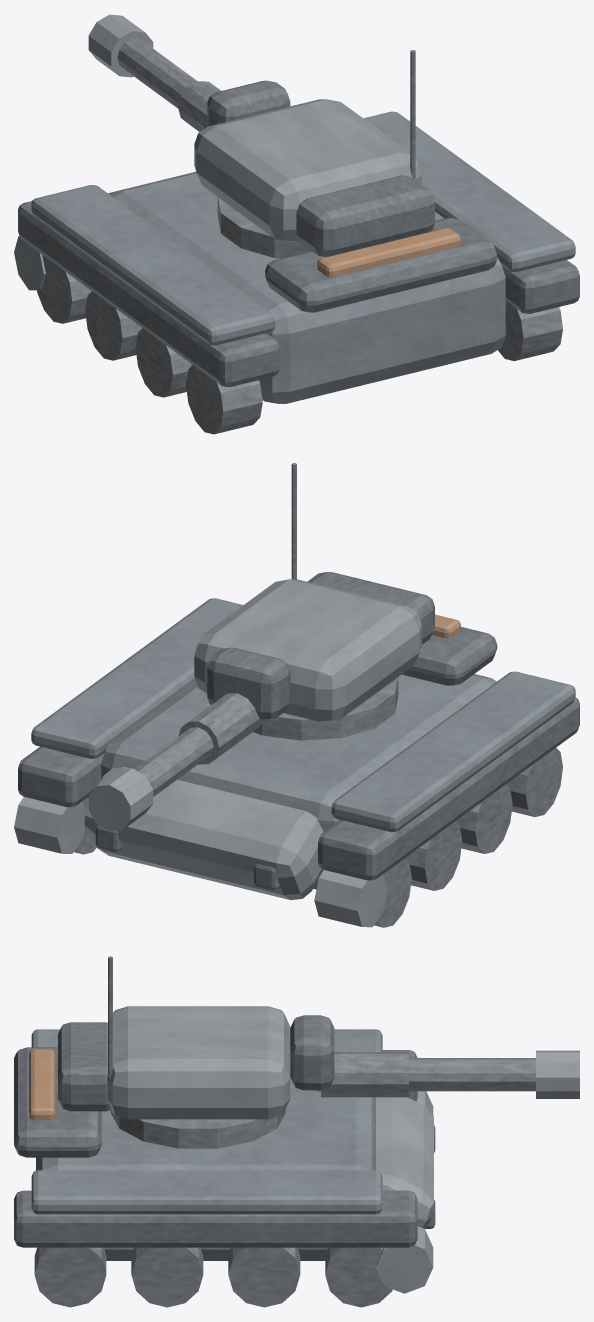
Rendered from dir_cannon_tank.glb.
3 views of the same model, one above another, from view 1: azimuth 30°, elevation 25°; view 2: azimuth 150°, elevation 25°; view 3: azimuth 270°, elevation 25° (orthographic). The views are drawn at different scales.
Visible parts, largest first — view 1: dir_cannon_tank, turret; view 2: dir_cannon_tank, turret; view 3: dir_cannon_tank, turret.
Part boxes in pixels (x1=…): dir_cannon_tank: x1=14, y1=111, x2=579, y2=434; turret: x1=88, y1=14, x2=434, y2=256; dir_cannon_tank: x1=14, y1=598, x2=579, y2=927; turret: x1=88, y1=463, x2=434, y2=831; dir_cannon_tank: x1=14, y1=1029, x2=435, y2=1307; turret: x1=58, y1=956, x2=579, y2=1119.
Size of the model in its own units: 0.93 by 0.75 by 1.29.
2 materials, 2 textured.
